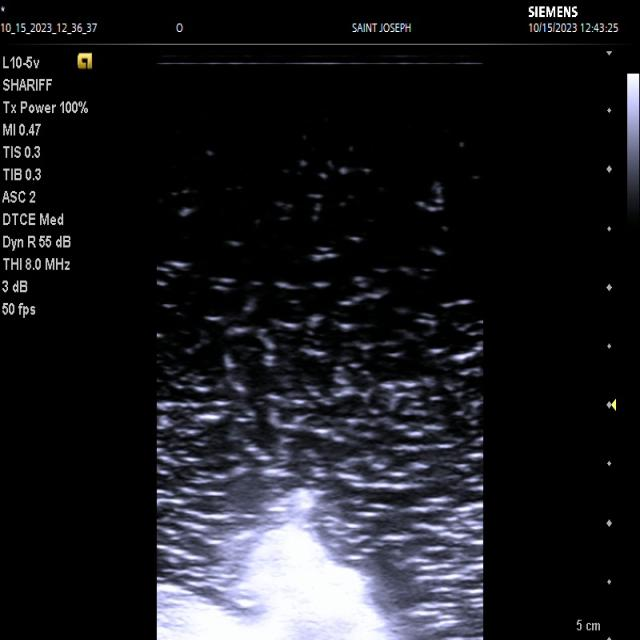tissue: (158, 528, 405, 640)
